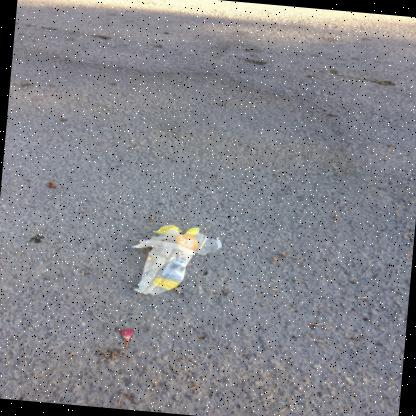Plastic film: (131, 225, 222, 296)
